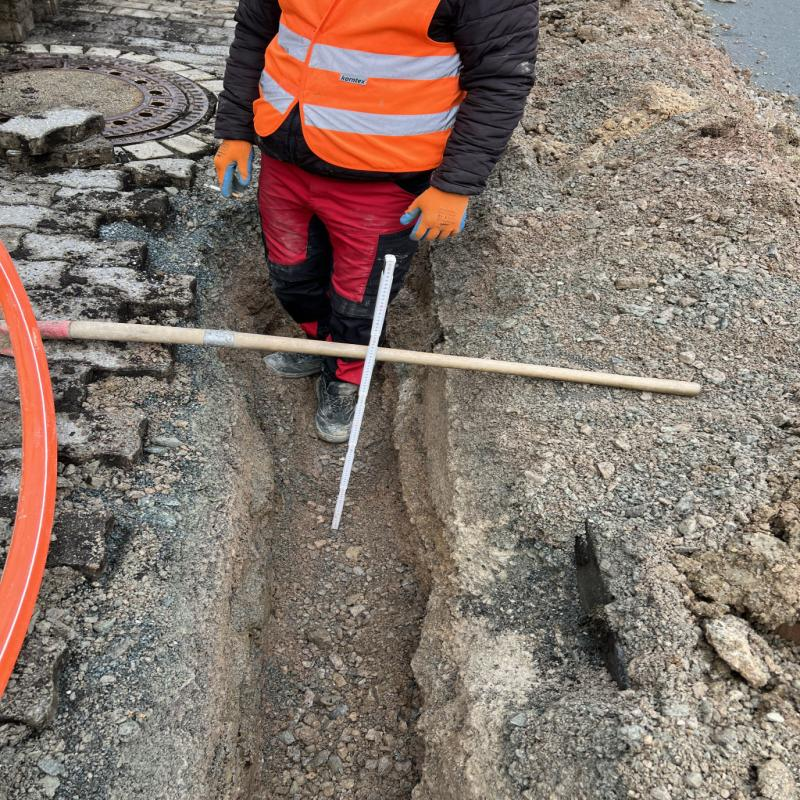Orang-Speednetrohrchen: (0, 241, 59, 698)
